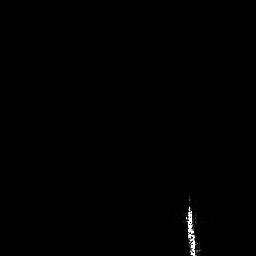ship: (185, 194, 200, 256)
